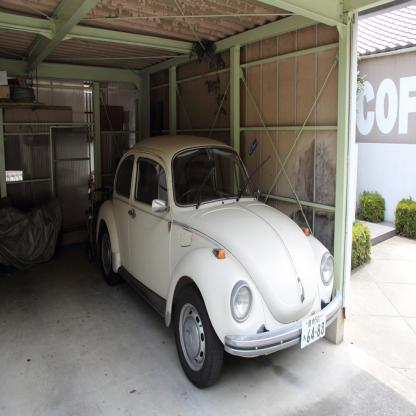Car: (96, 134, 342, 388)
